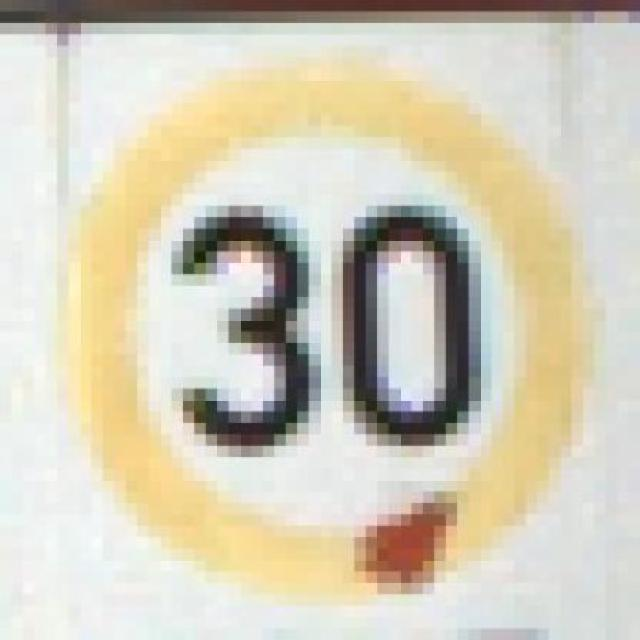Speed Limit 30 KMPh: (22, 57, 628, 594)
